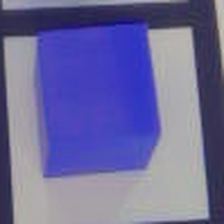cube: (17, 14, 169, 182)
